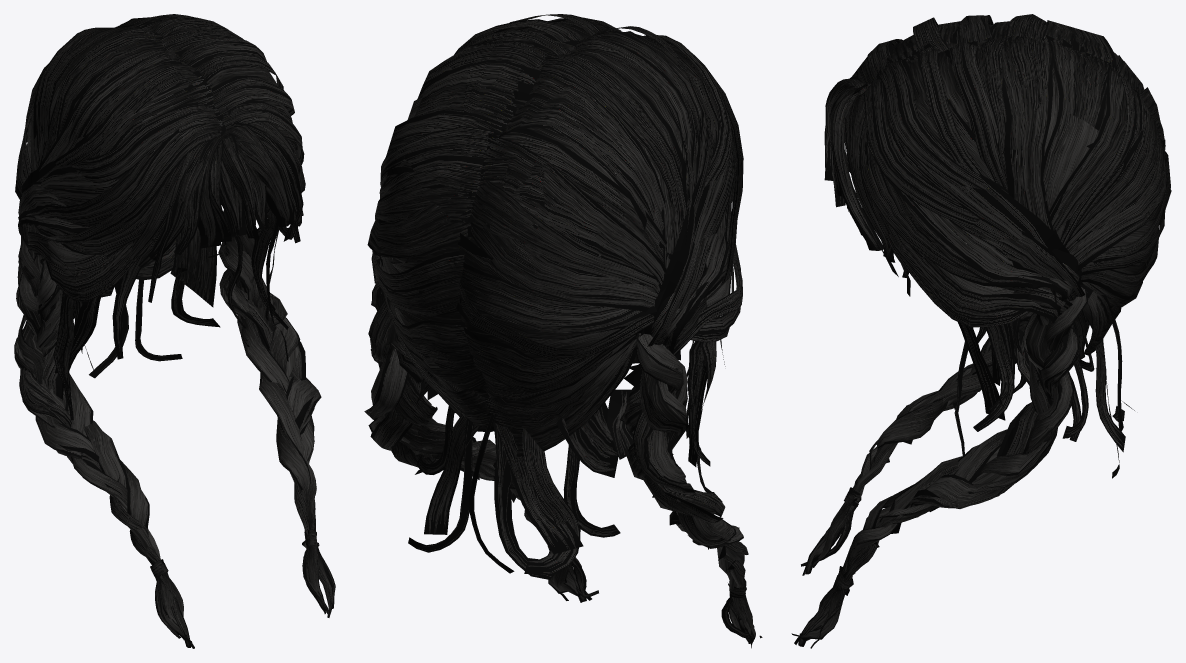
File: Hair13.fbx
3 renders of one model, left to right at view 1: azimuth 30°, elevation 25°; view 2: azimuth 150°, elevation 25°; view 3: azimuth 270°, elevation 25°, orthographic. The views are drawn at different scales.
Visible parts, largest first — view 1: avaturn_hair_1, avaturn_hair_0; view 2: avaturn_hair_1, avaturn_hair_0; view 3: avaturn_hair_1, avaturn_hair_0.
Part boxes in pixels (x1,y1,x2,y2): avaturn_hair_1: (14,14,335,648); avaturn_hair_0: (18,19,315,575); avaturn_hair_1: (364,14,762,648); avaturn_hair_0: (371,22,744,620); avaturn_hair_1: (791,14,1171,648); avaturn_hair_0: (842,24,1165,580).
Size of the model in its own units: 23.97 by 43.83 by 26.14.
